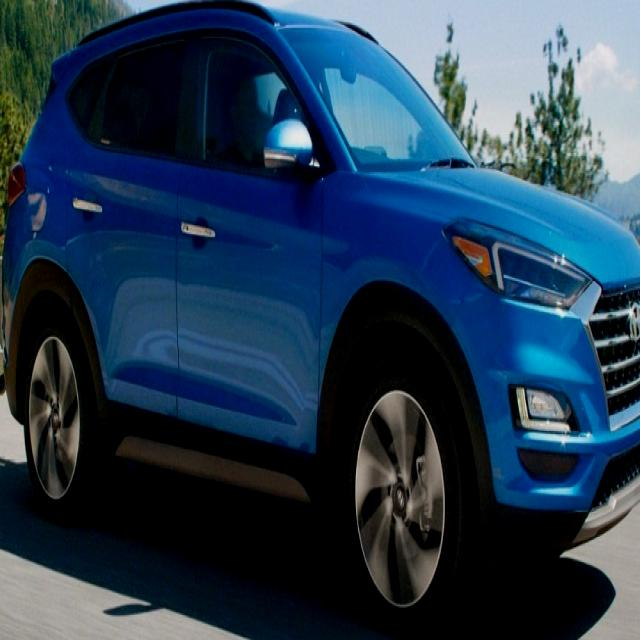blue: (0, 30, 640, 587)
